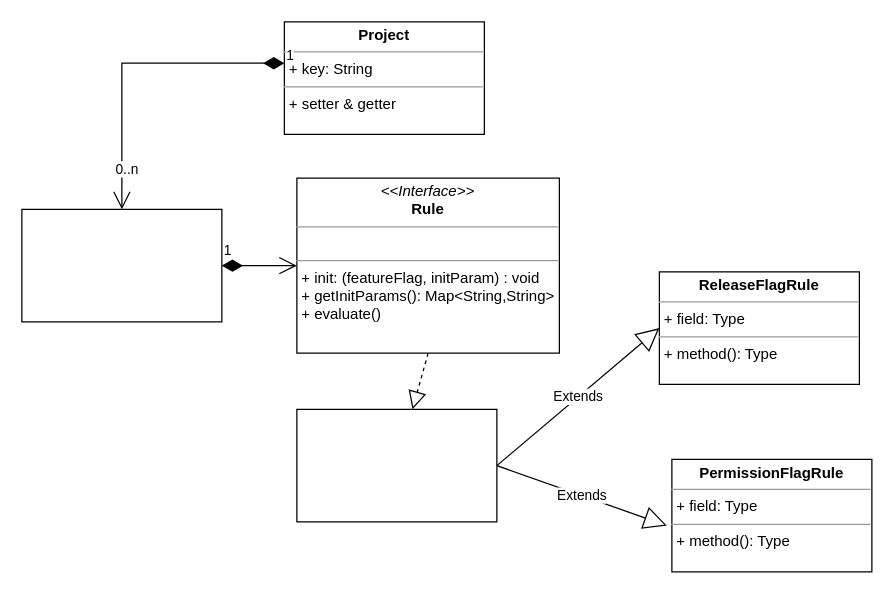
This 894x594 diagram has some shape labels left out. The shapes that lost their labels are listed below. From the top down, each one's centre as x and y in pixels, then its label:
(x=121, y=265): Feature Flag + field: Type + setter & getter
(x=396, y=465): AbstractRule + ruleKey: String + method(): Type
